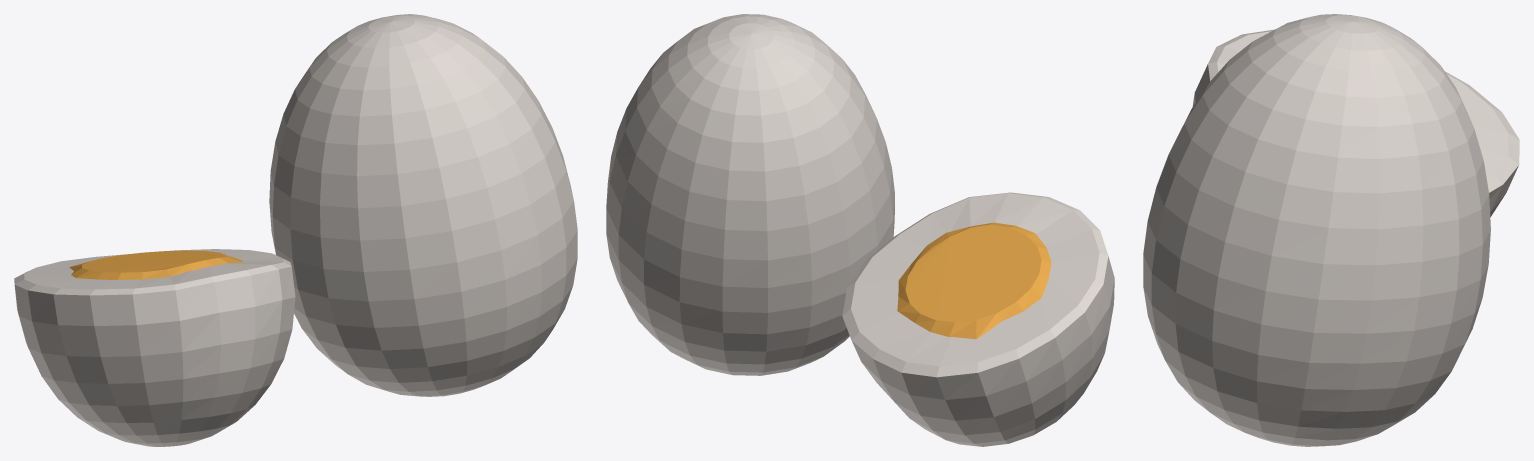
File: egg.fbx
The picture shows the model from 3 angles, left to right: view 1: azimuth 30°, elevation 25°; view 2: azimuth 150°, elevation 25°; view 3: azimuth 270°, elevation 25°; orthographic projection. The views are drawn at different scales.
Parts seen in each view (by area): view 1: egg; view 2: egg; view 3: egg.
Part boxes in pixels (x1,y1,x2,y2): egg: [14, 14, 577, 446]; egg: [606, 14, 1114, 446]; egg: [1143, 14, 1519, 446].
Size of the model in its own units: 25.4 by 17.12 by 14.59.
